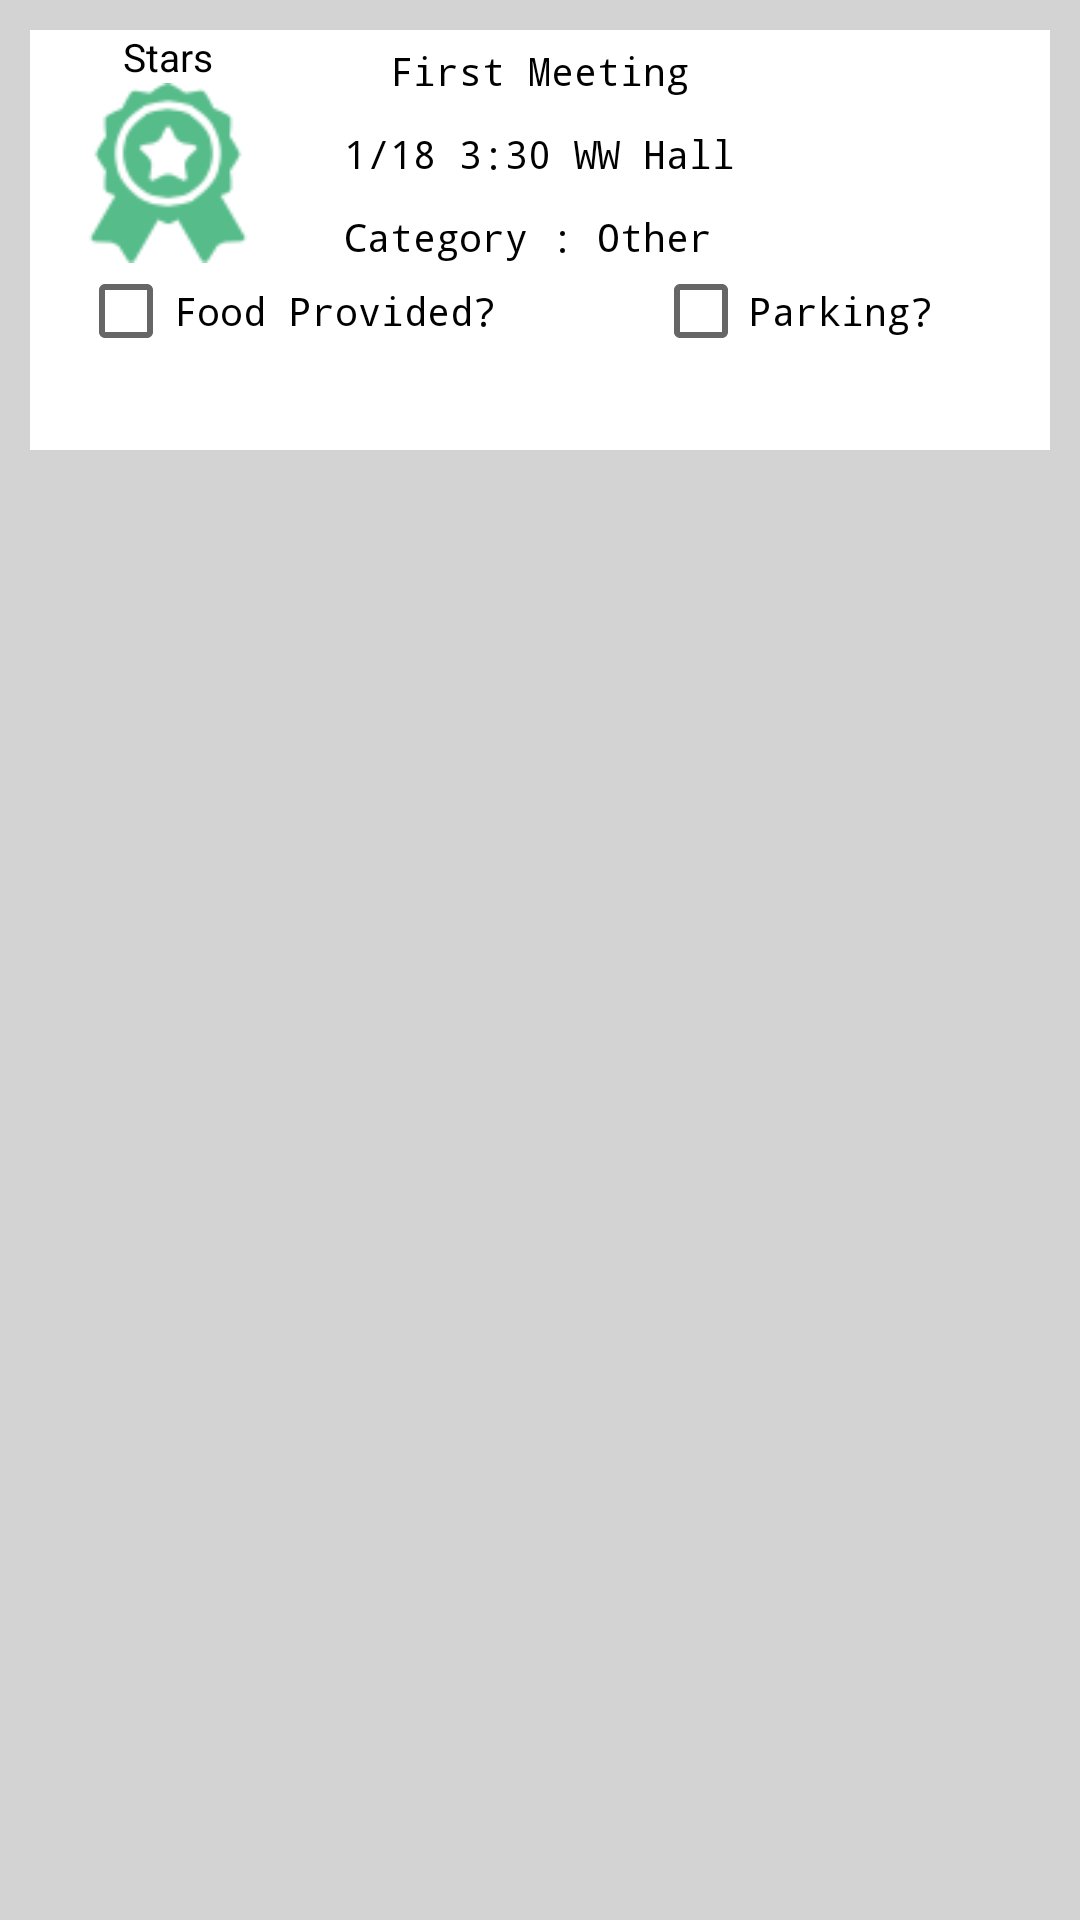

Where to tap for icons on this 1080 x 1920 app screen, as point (x, y):
premium: point (168, 173)
